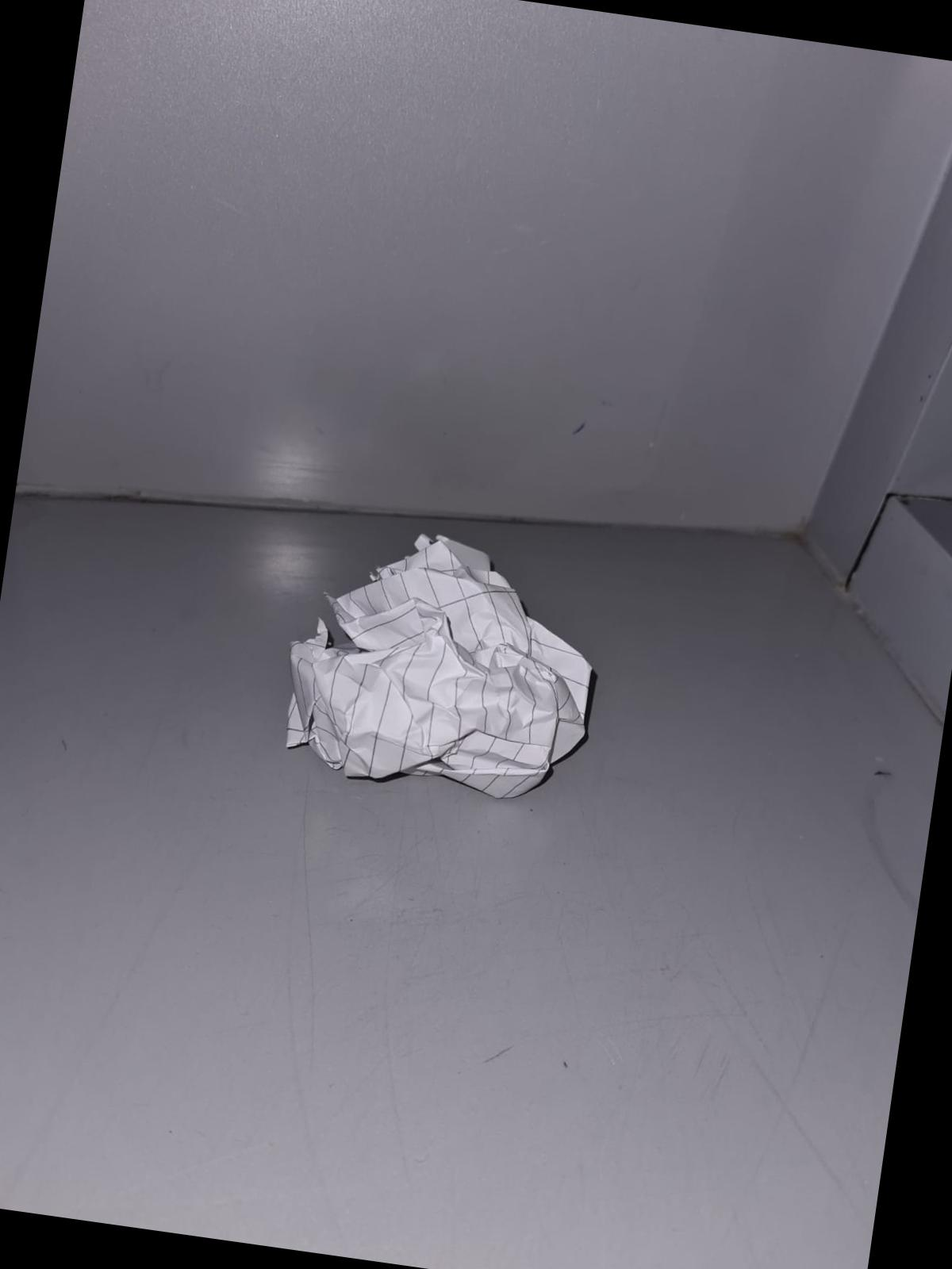Kertas: (286, 535, 590, 796)
